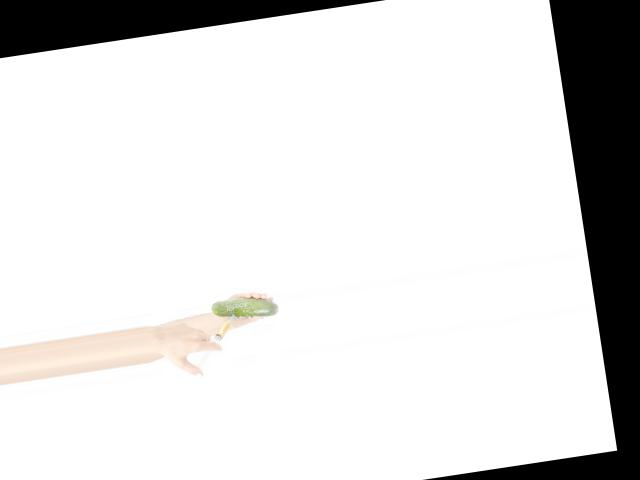cucumber: (211, 293, 280, 323)
